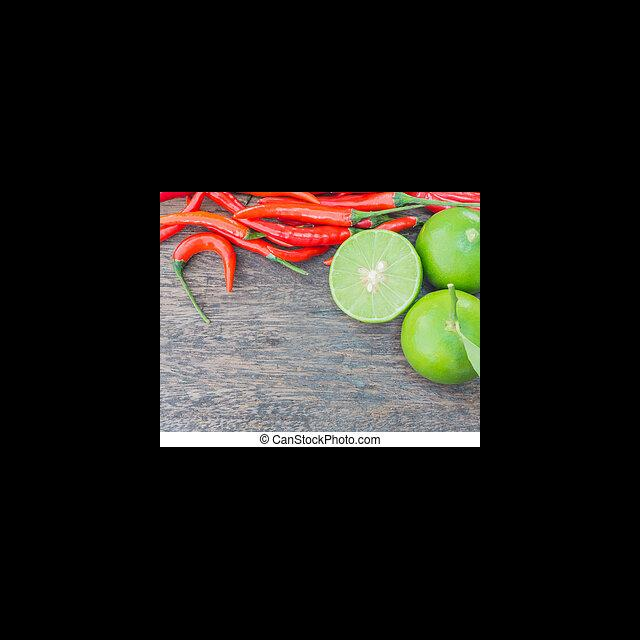lime: (398, 281, 480, 387), (410, 204, 480, 302)
